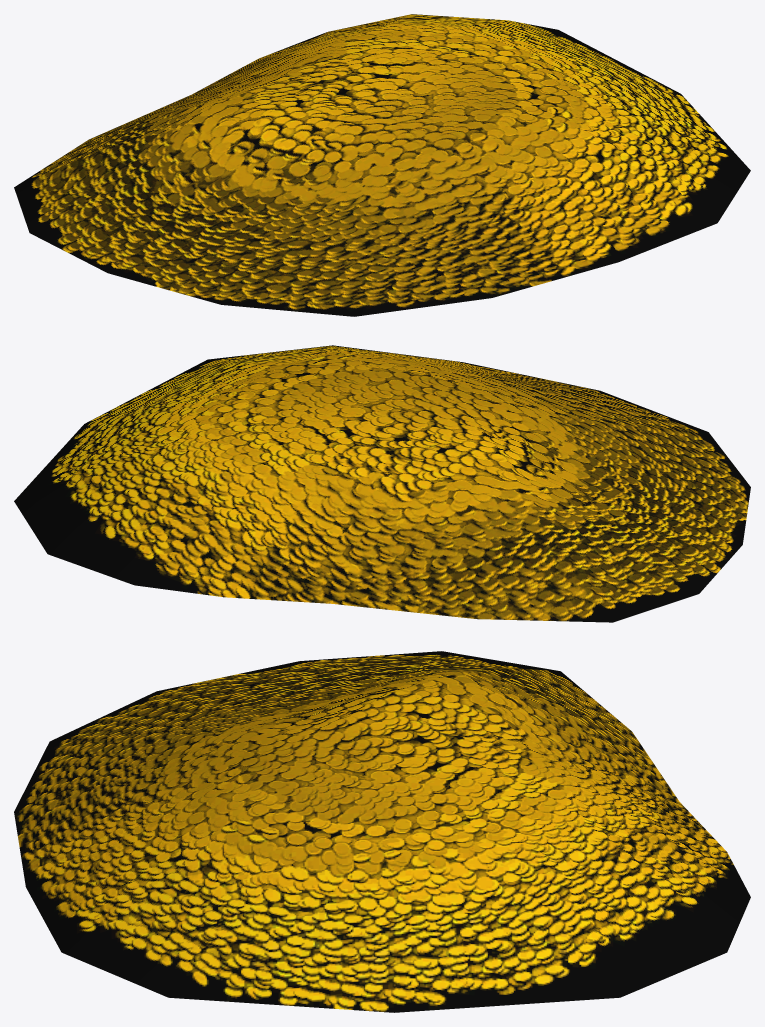
The model's file is INST_SM_GOLDPILE_MEDIUMC.fbx.
The picture shows the model from 3 angles, top to bottom: view 1: azimuth 30°, elevation 25°; view 2: azimuth 150°, elevation 25°; view 3: azimuth 270°, elevation 25°; orthographic projection. The views are drawn at different scales.
Visible parts, largest first — view 1: INST_SM_GOLDPILE_MEDIUMC; view 2: INST_SM_GOLDPILE_MEDIUMC; view 3: INST_SM_GOLDPILE_MEDIUMC.
Part boxes in pixels (bbox=[...]): INST_SM_GOLDPILE_MEDIUMC: bbox=[14, 14, 750, 316]; INST_SM_GOLDPILE_MEDIUMC: bbox=[14, 345, 750, 622]; INST_SM_GOLDPILE_MEDIUMC: bbox=[14, 651, 750, 1012].
Bounding box in the file's own units: 90000 × 10000 × 77500.
Materials: 1 (1 with a texture image).
